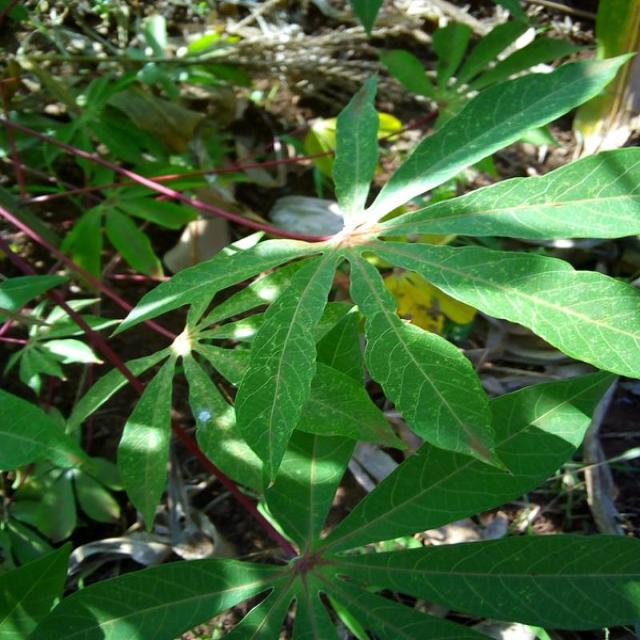cassava leaf: (87, 48, 638, 556)
